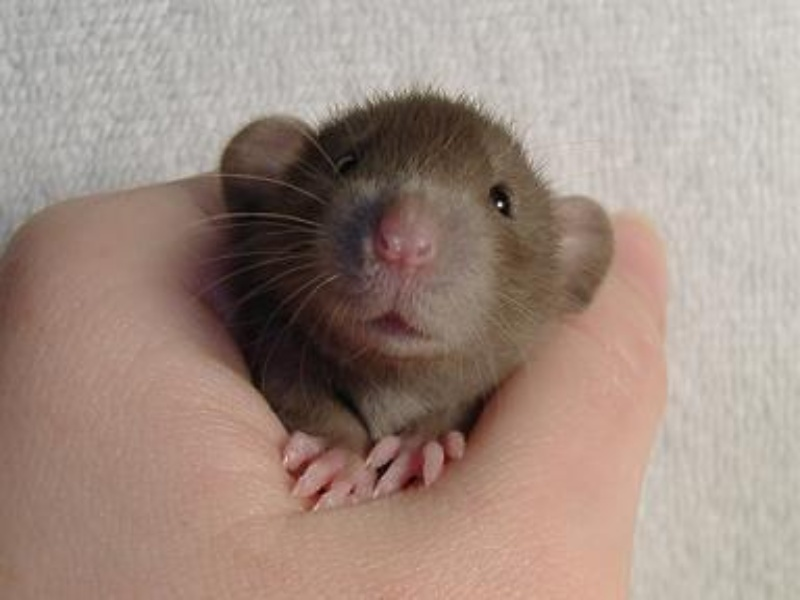minkish: (209, 85, 622, 515)
